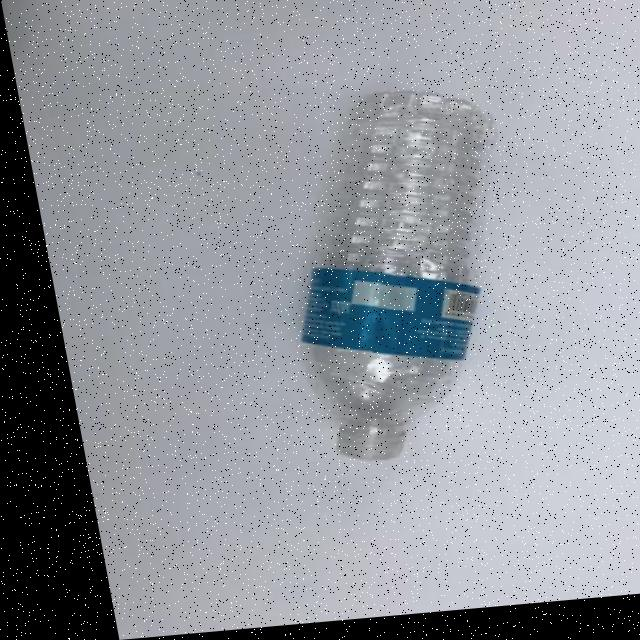plasticbottlecap: (294, 419, 404, 481)
